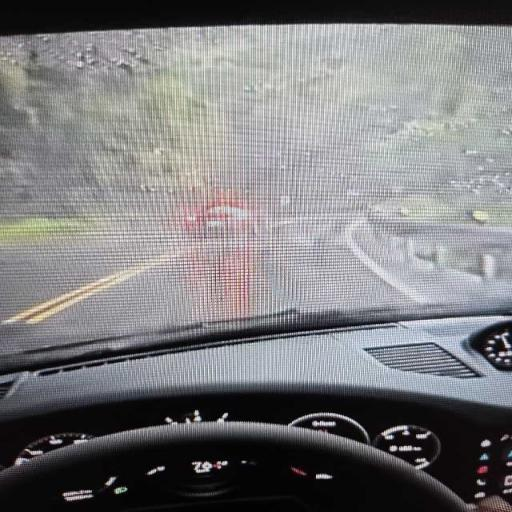car: (0, 7, 511, 511), (174, 190, 259, 236)
lane: (0, 231, 411, 352)
